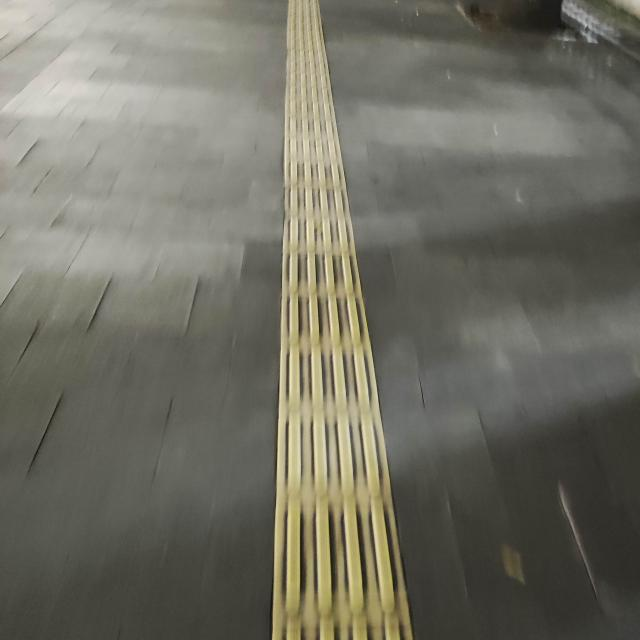lurus: (269, 0, 416, 640)
